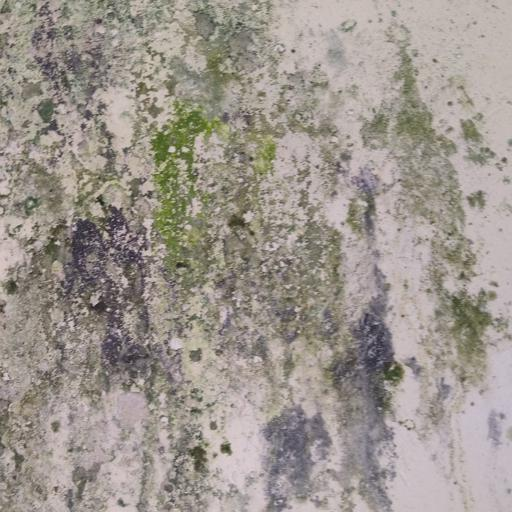algae: (0, 0, 485, 479)
